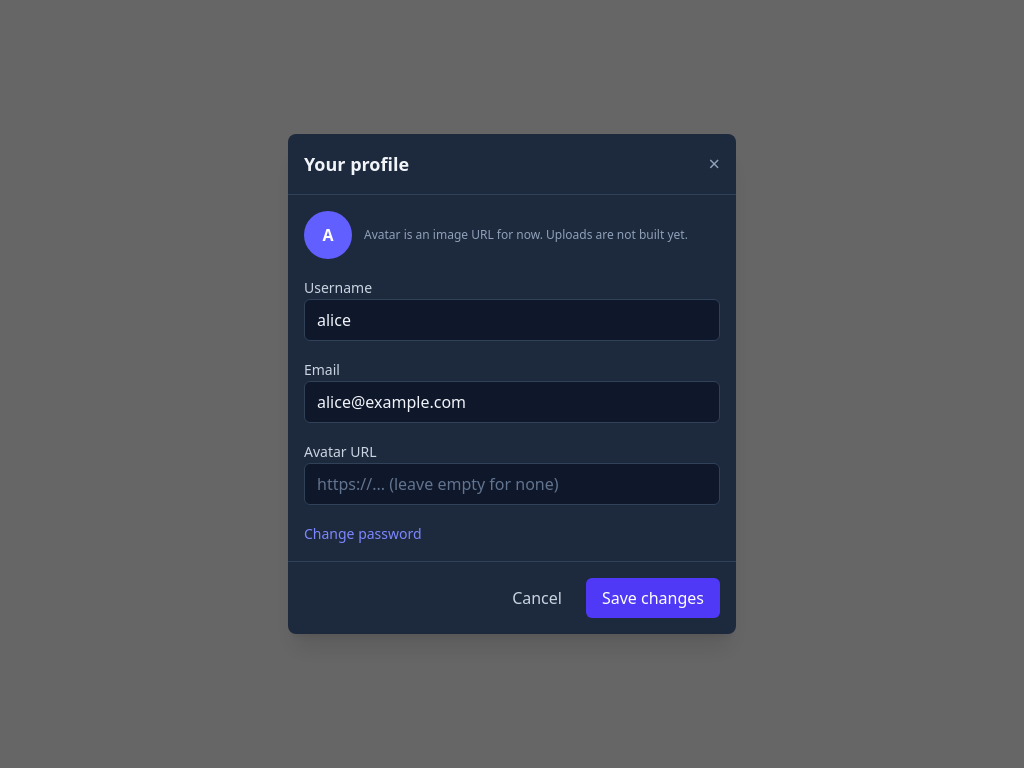
Test: ProfileModal › shows a server rejection and stays open
Replace the text in the field labelled "Username" with "bob" at (512,320), box [304,299,720,341]
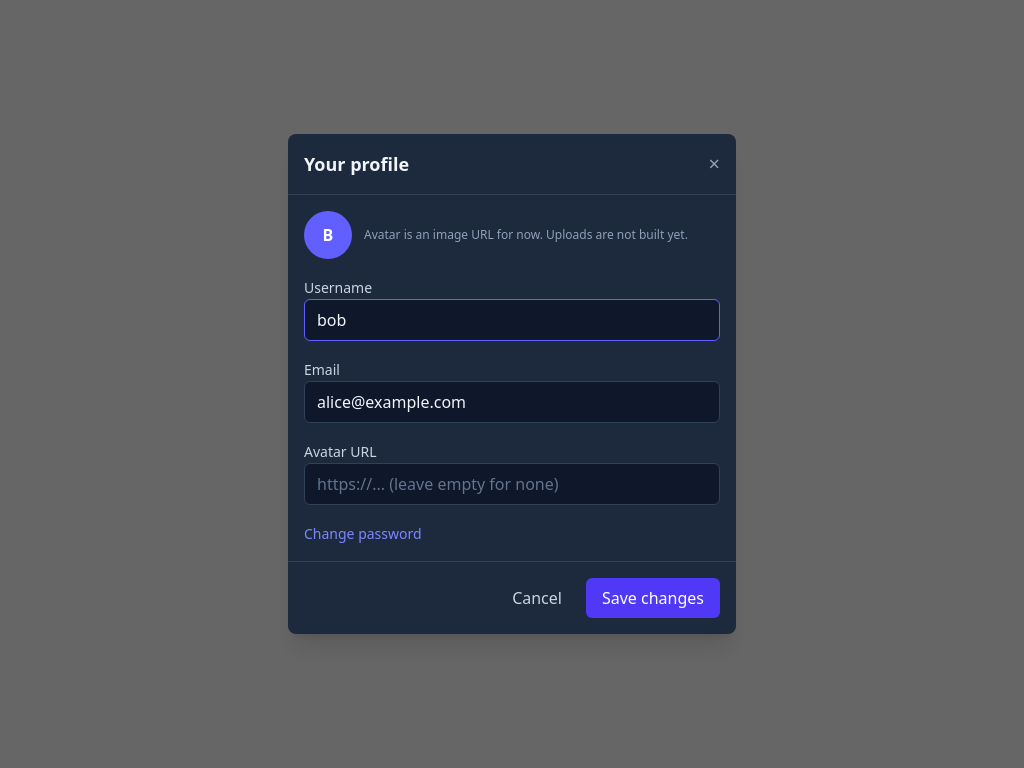
Click the button "Save changes" at (653,598), box [586,578,720,618]
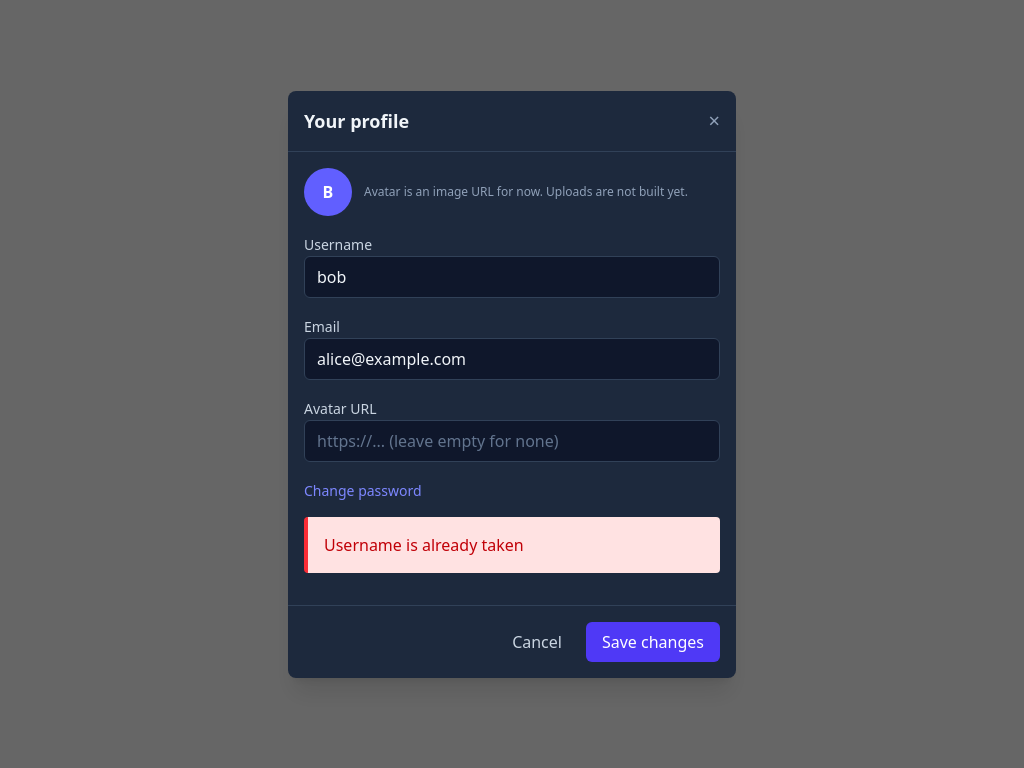
Check: the text "Username is already taken" is shown, box [324,534,524,556]
